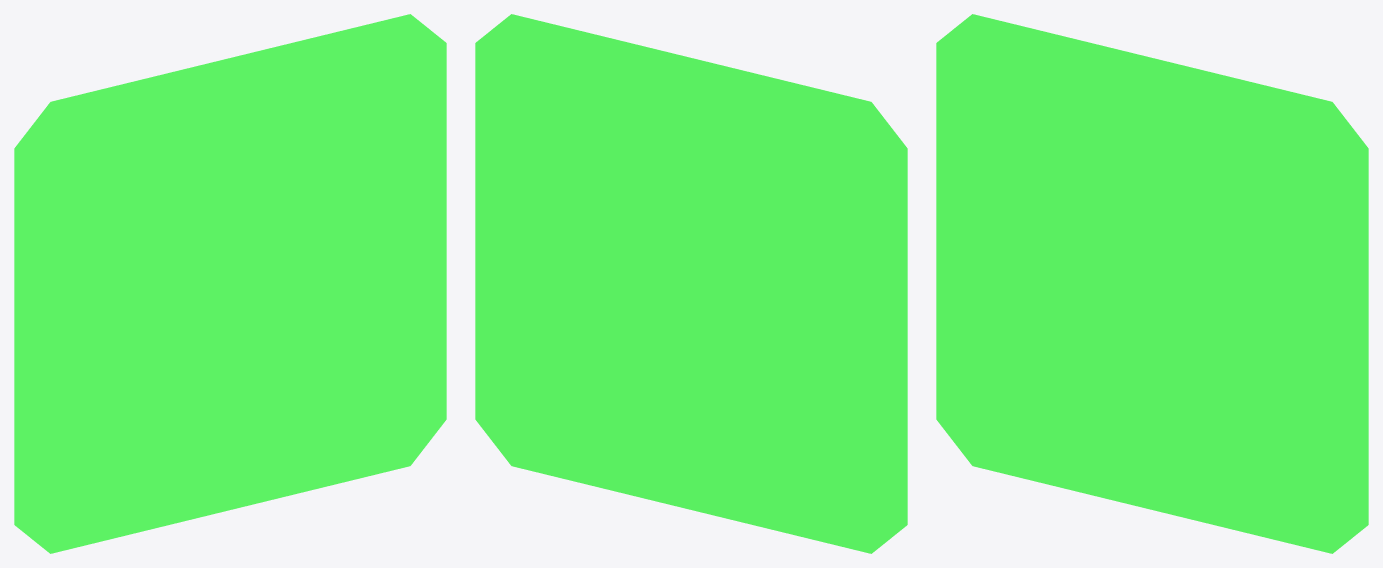
The model's file is Tesseract.glb.
3 views of the same model, side by side, from view 1: azimuth 30°, elevation 25°; view 2: azimuth 150°, elevation 25°; view 3: azimuth 330°, elevation 25° (orthographic).
Visible parts, largest first — view 1: Tesseract; view 2: Tesseract; view 3: Tesseract.
Part boxes in pixels (<box>): Tesseract: <box>14,14,446,553</box>; Tesseract: <box>475,14,907,553</box>; Tesseract: <box>936,14,1368,553</box>.
Bounding box in the file's own units: 120 × 120 × 0.
